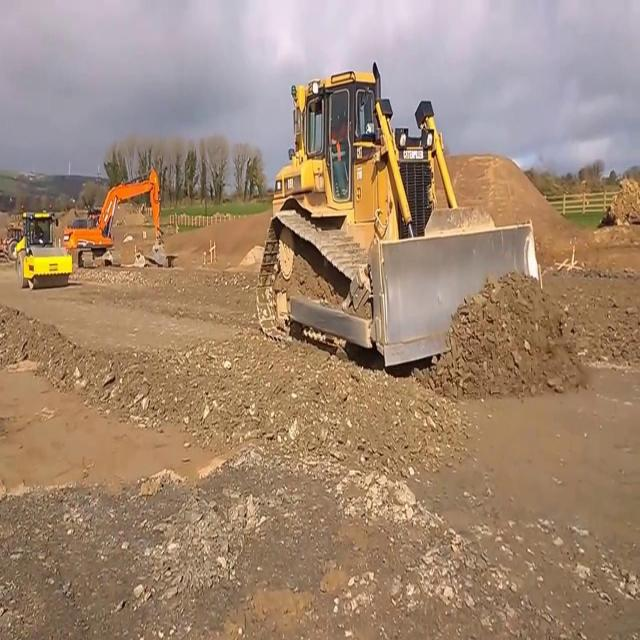buldozerpayloadergrader: (254, 55, 546, 368)
excavator: (62, 168, 162, 264)
